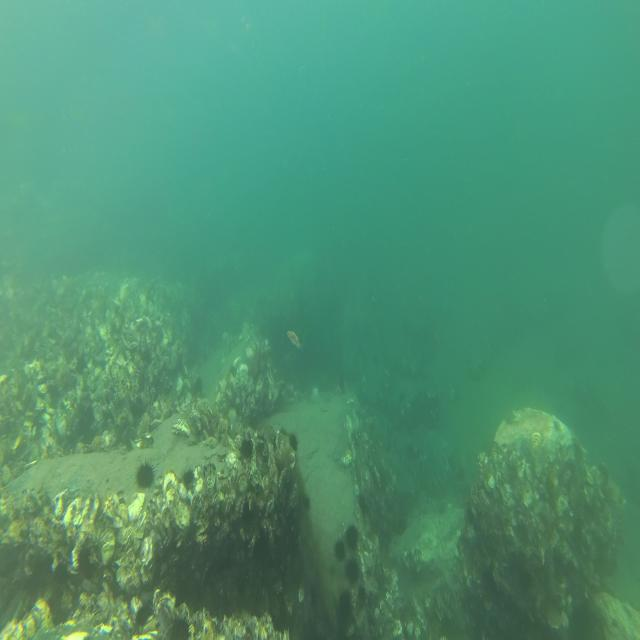echinus: (168, 607, 196, 640), (133, 457, 157, 491), (134, 597, 156, 632), (344, 556, 362, 585), (345, 521, 360, 552), (180, 463, 196, 489), (240, 437, 255, 461), (334, 536, 346, 564), (287, 430, 300, 454), (338, 590, 352, 612), (193, 373, 204, 396), (304, 491, 311, 511)
